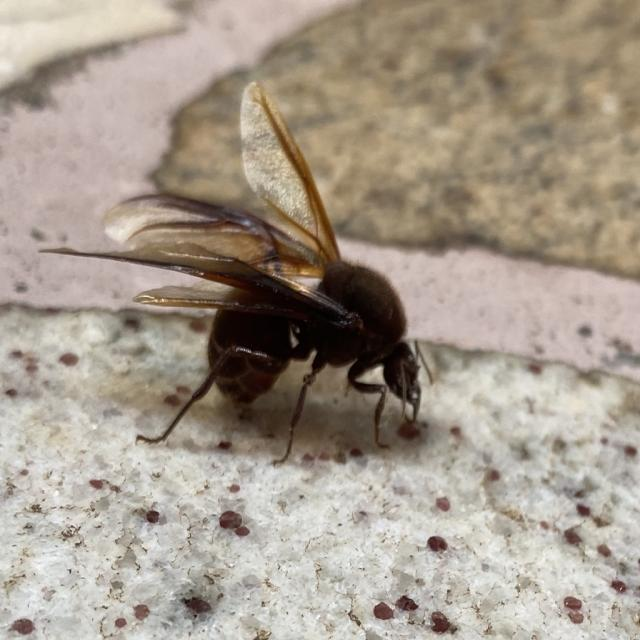Alive-Female-Alate: (37, 80, 434, 470)
